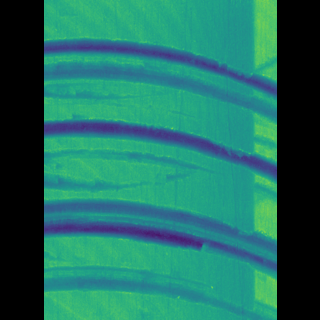Loch: (75, 35, 246, 127), (75, 195, 245, 284), (75, 114, 246, 186), (74, 262, 244, 320), (74, 146, 197, 195)
